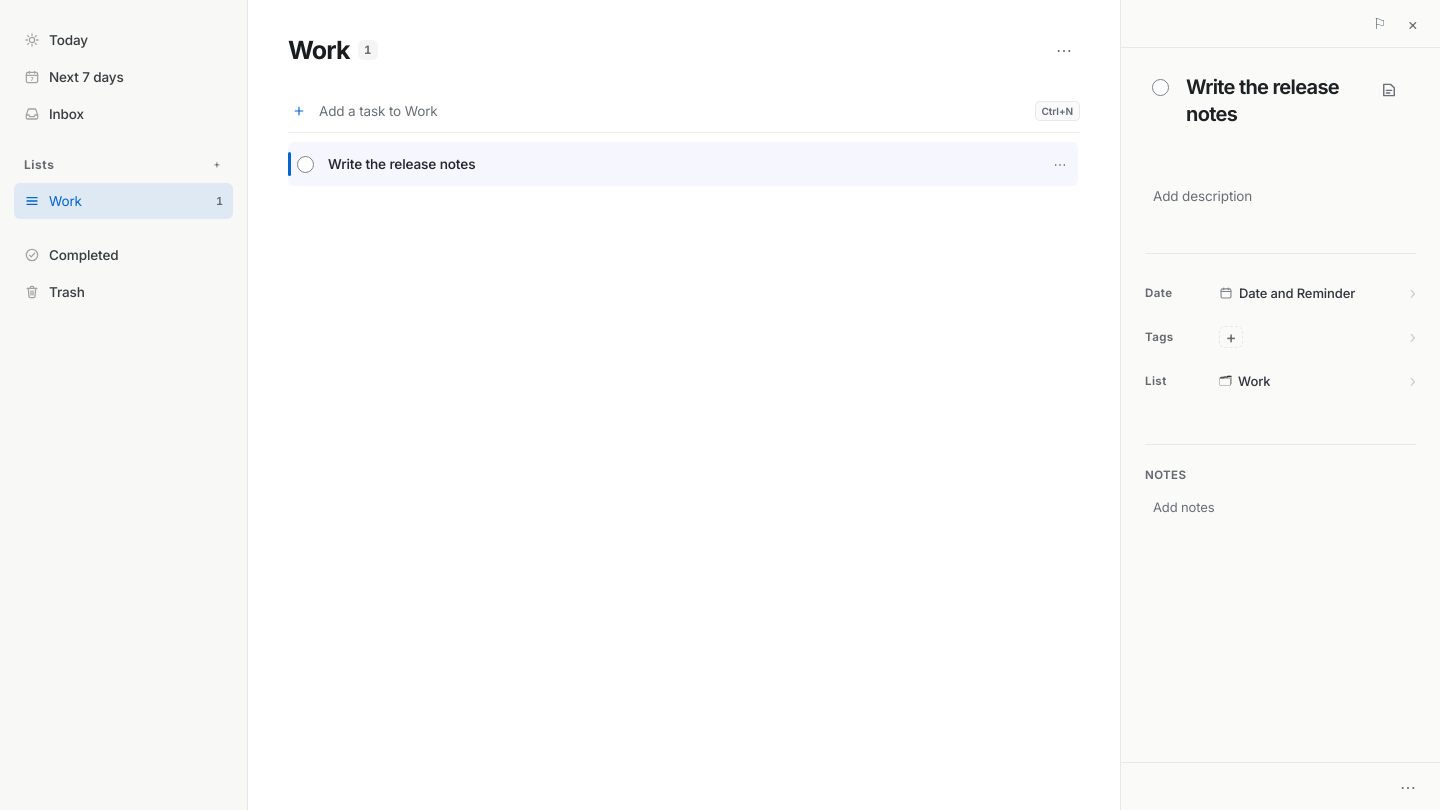
Scenario: the Detail's More menu (§15.2, §15.3) › closes on Escape without closing the Detail under it (§15.48, §15.49)
The width and height of the screenshot is (1440, 810).
Click the button named "More" at (1408, 786), box left=1392, top=770, right=1424, bottom=802
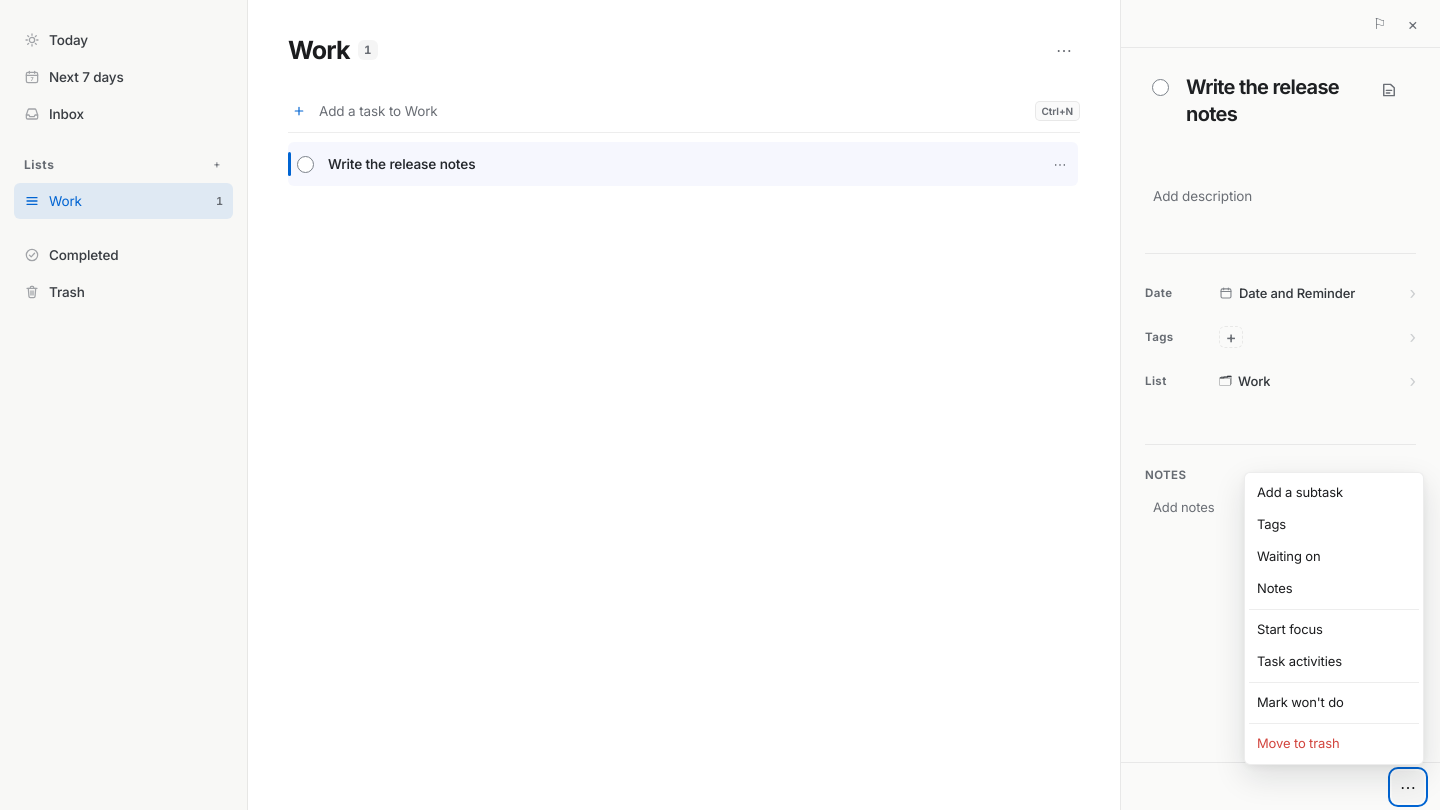
Press Escape
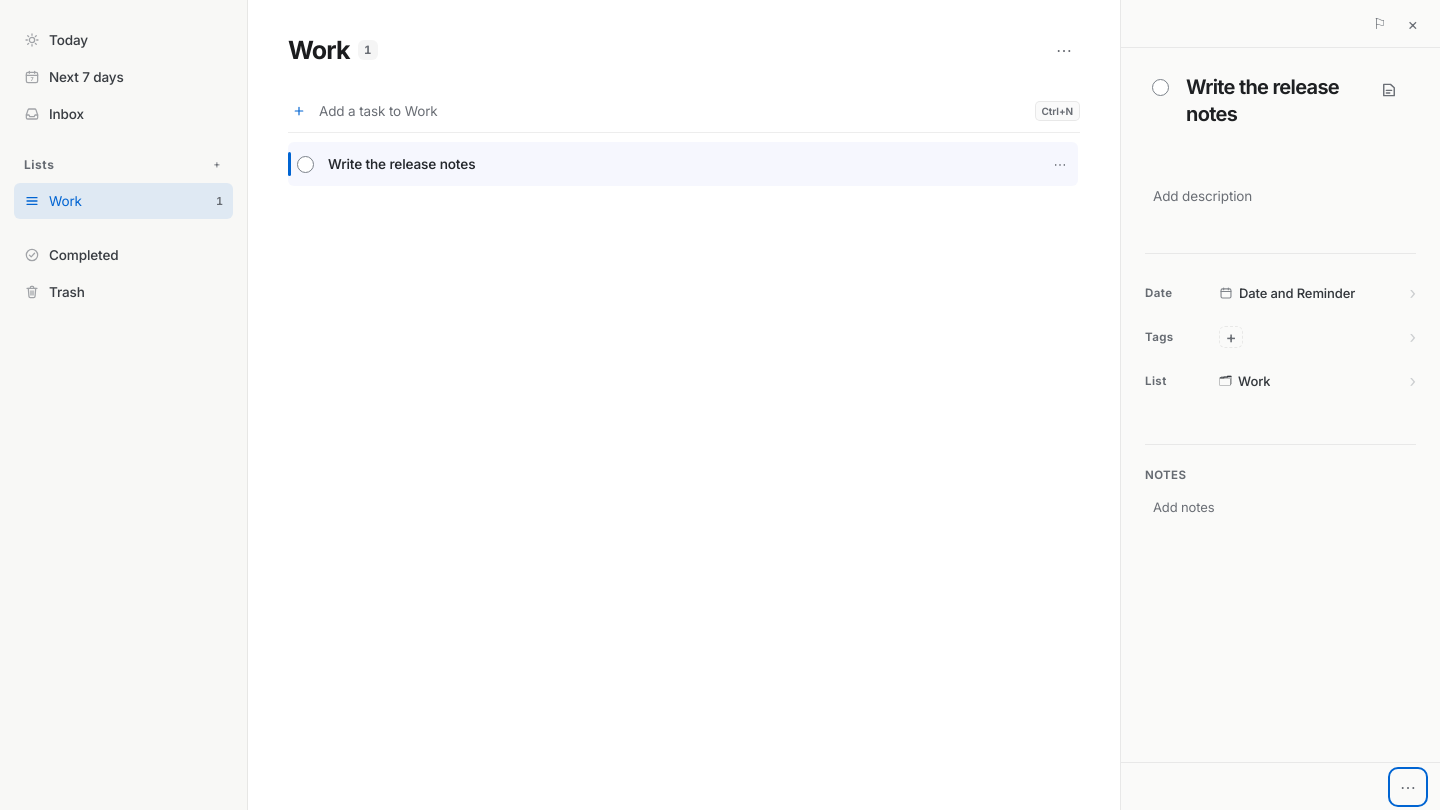
Expected: the element named "Task detail" is shown, left=1120, top=0, right=1439, bottom=809
Result: the menu is gone
